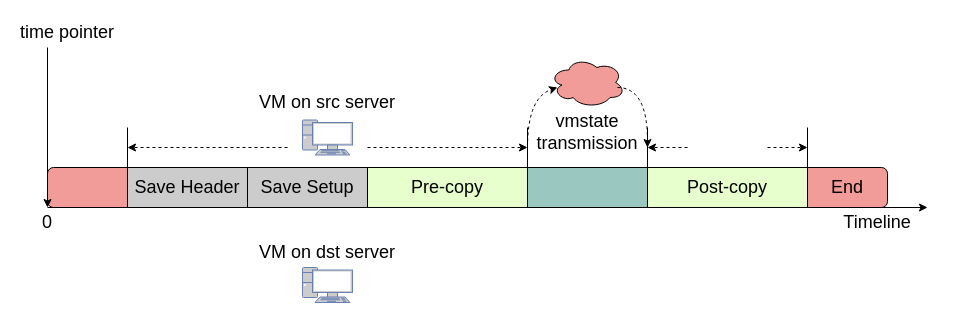
Image size: 953x320. Some labels were removed from this diagram. The centre of each missing label's shape, as x and y in pixels:
Downtime: pixel 587 187
Start: pixel 107 187
